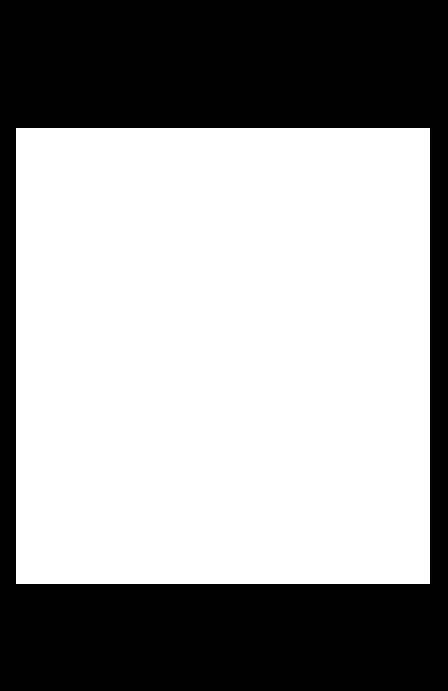table: (16, 128, 429, 583)
